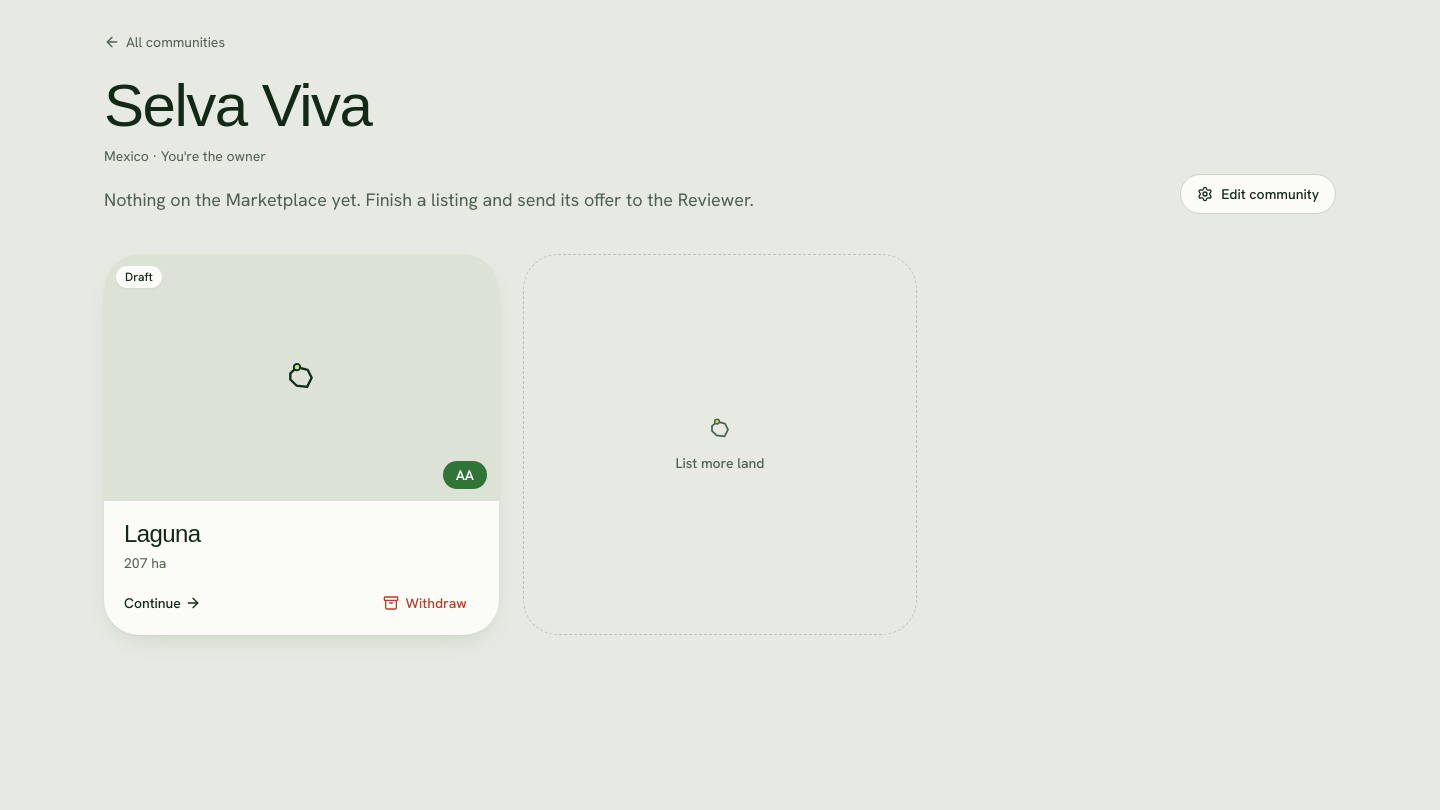
a community's page › withdraws a draft from its tile
The image size is (1440, 810).
What coordinates should you click on to do the following:
click the button with aria-label "Withdraw Laguna"
I would click on:
 (425, 603)
Its box is [372, 587, 479, 619].
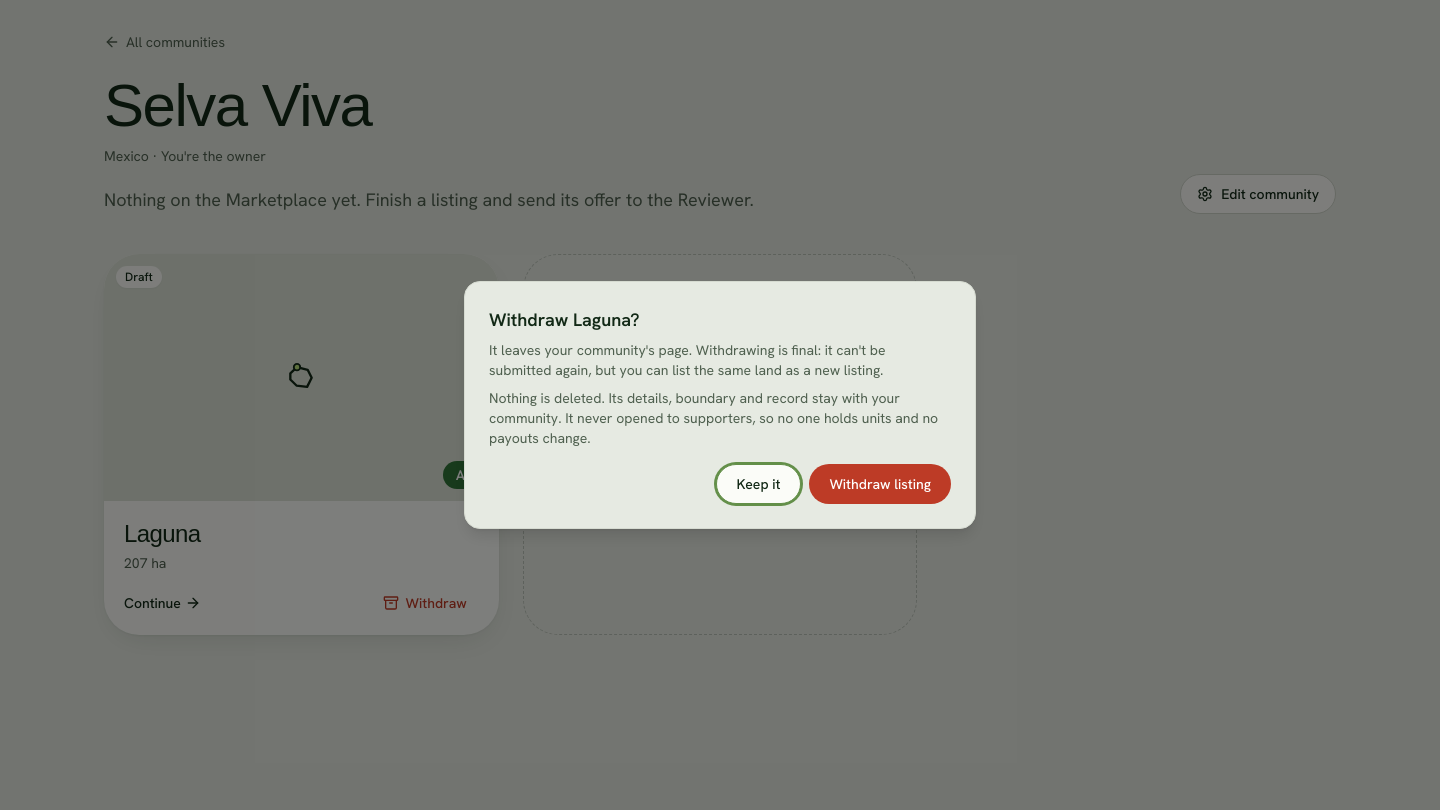
What coordinates should you click on to do the following:
click the button "Withdraw listing"
I would click on:
 (880, 484)
Its box is [809, 464, 951, 504].
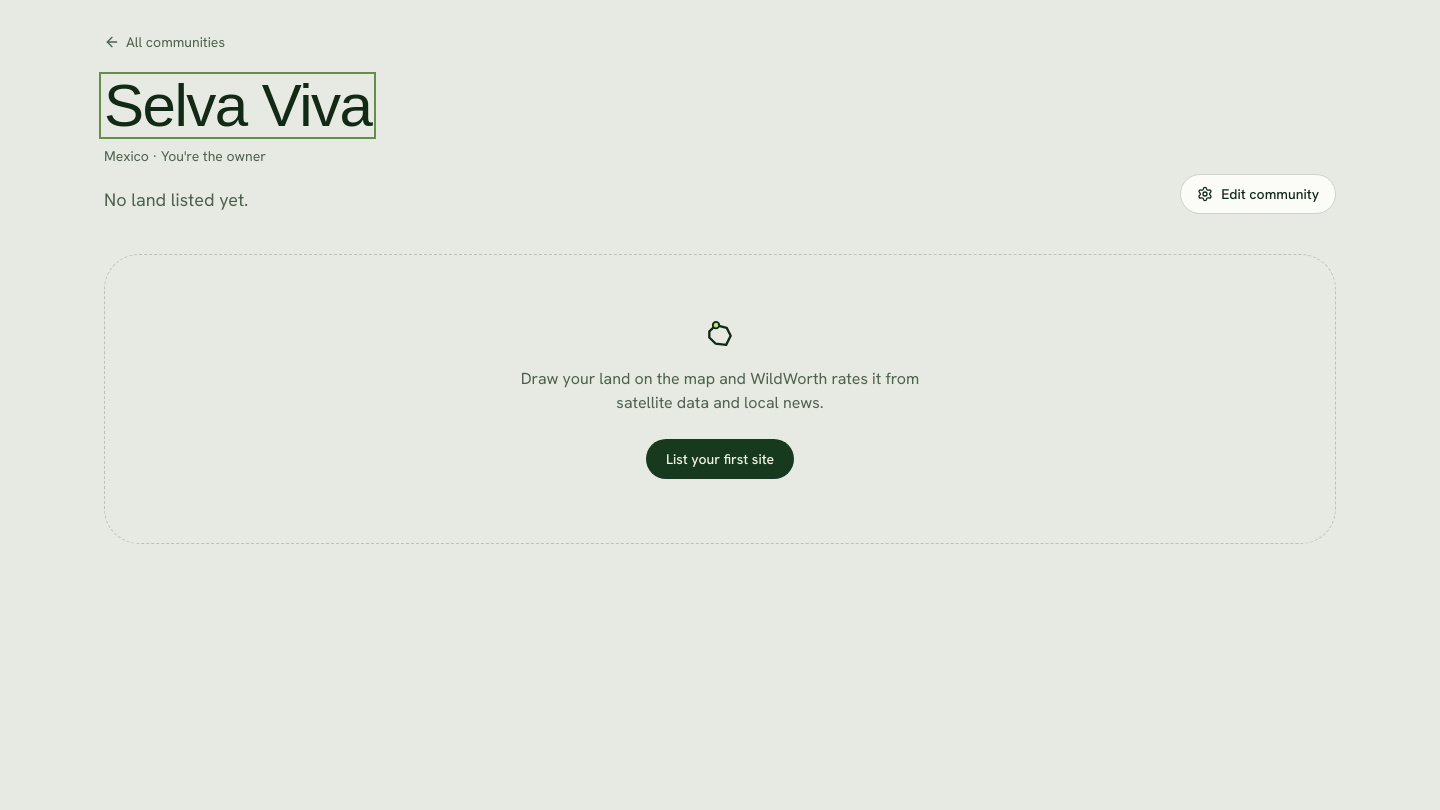
expect the text "No land listed yet." is shown: met, box [104, 188, 248, 211]
